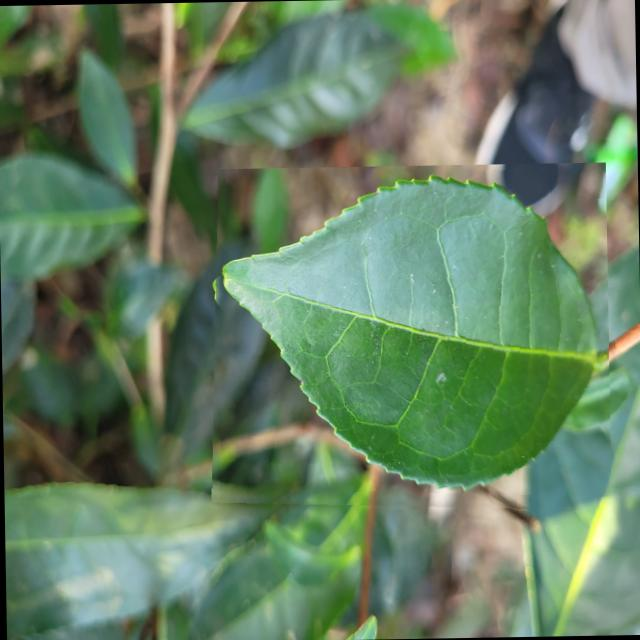Category D(7+ days, Not for Tea): (204, 162, 610, 517)
